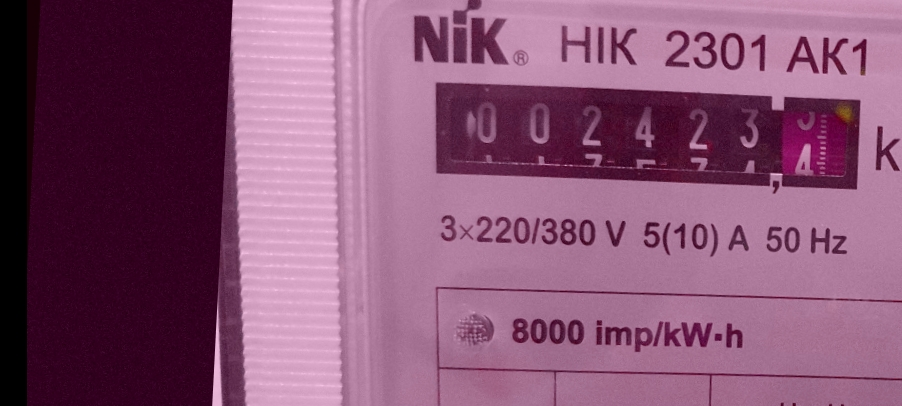0: (473, 97, 502, 146), (526, 100, 554, 146)
2: (578, 101, 606, 148), (686, 106, 711, 152)
3: (737, 105, 763, 151), (795, 108, 818, 132)
4: (633, 103, 658, 150), (792, 139, 818, 177)
screen: (421, 66, 876, 207)
